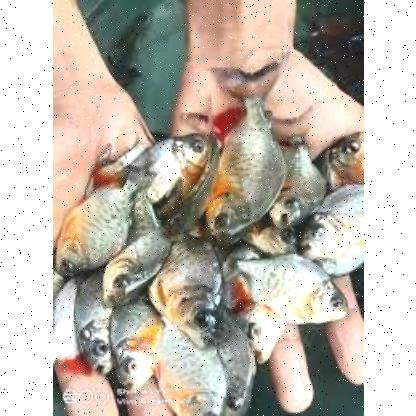ikan-pacu: (196, 106, 290, 228), (51, 180, 132, 268), (244, 257, 350, 323), (156, 324, 228, 414), (112, 292, 157, 395)
